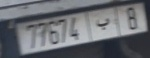4: (68, 16, 81, 40)
6: (48, 19, 58, 47)
7: (25, 24, 37, 49), (58, 17, 69, 44), (38, 21, 49, 47)
8: (125, 6, 141, 30)
b: (93, 17, 112, 32)
